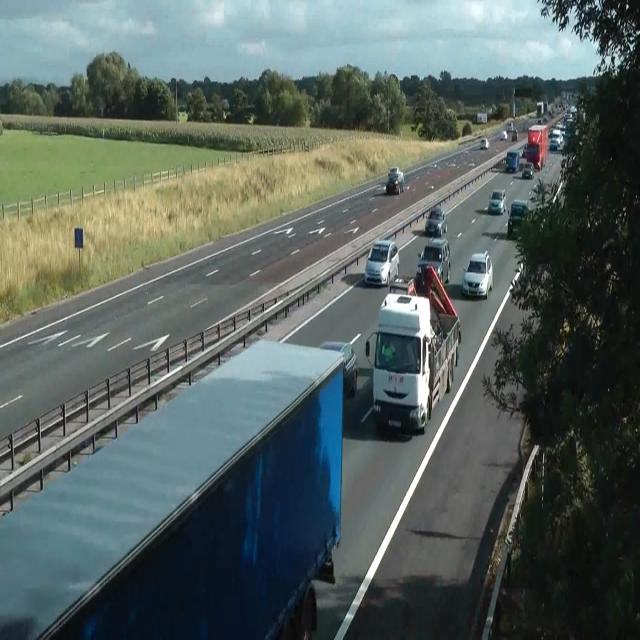bus: (319, 340, 357, 398), (508, 260, 544, 296), (509, 262, 524, 294), (488, 188, 506, 214), (388, 166, 398, 178), (480, 137, 489, 149), (521, 143, 527, 157), (500, 130, 508, 140), (512, 128, 518, 140), (506, 121, 513, 131)
car: (0, 337, 345, 638)
jeep: (416, 237, 450, 287), (364, 238, 399, 286), (461, 250, 493, 298), (506, 198, 528, 238), (424, 204, 446, 237), (384, 165, 404, 194), (505, 148, 519, 172), (521, 161, 534, 179)
minibus: (365, 263, 461, 434), (526, 124, 548, 170), (536, 100, 548, 116), (477, 113, 487, 123)
